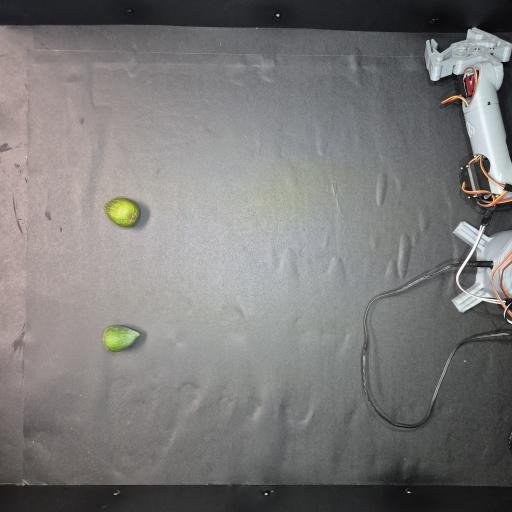higo: (104, 197, 140, 227), (103, 325, 140, 352)
